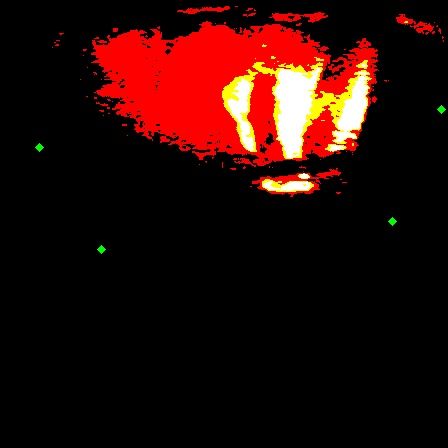coin_1: (101, 249, 121, 269)
coin_2: (39, 147, 59, 167)
coin_3: (392, 221, 412, 241)
coin_4: (441, 109, 448, 129)
